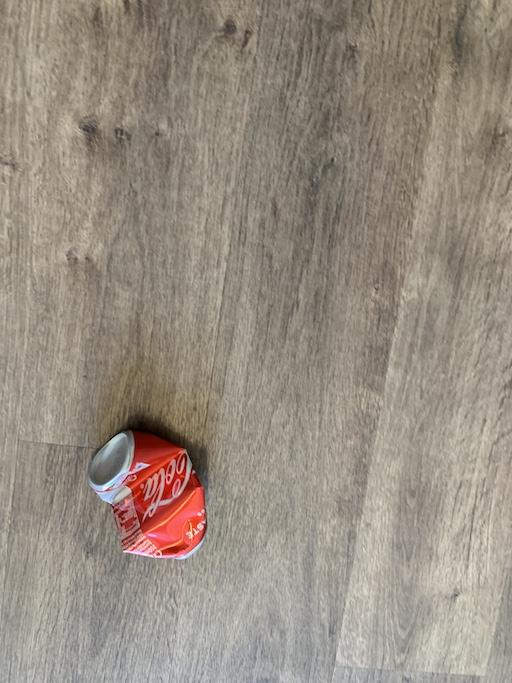Aluminum can: (66, 396, 225, 581)
